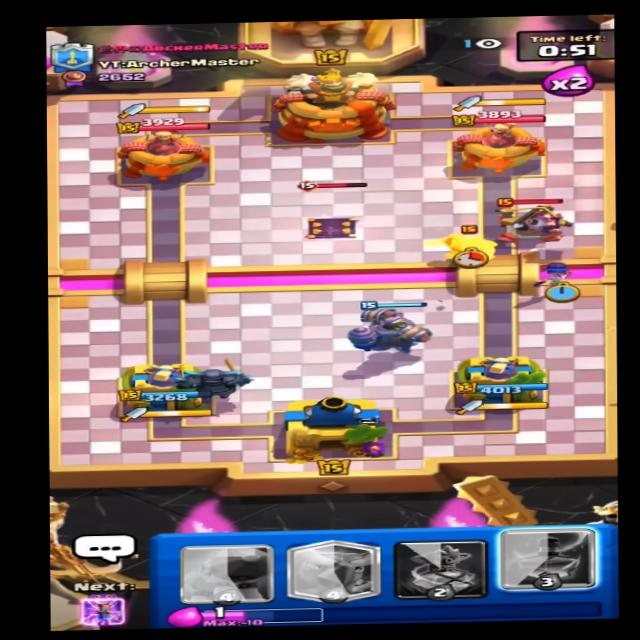Evoteslahidden: (285, 177, 375, 241)
Knight: (429, 223, 502, 266)
Xbow: (479, 192, 580, 249)
